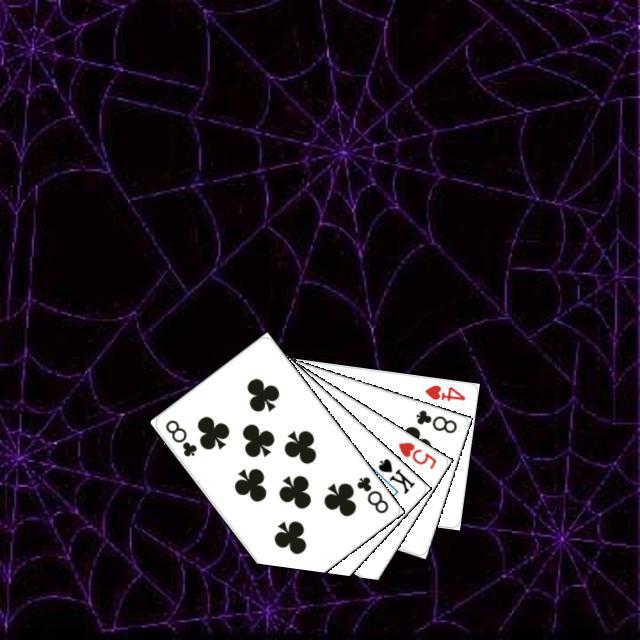4h: (420, 380, 467, 403)
5h: (393, 437, 438, 471)
8c: (160, 414, 199, 459), (352, 471, 390, 515), (411, 405, 459, 435)
Ks: (373, 453, 416, 496)
